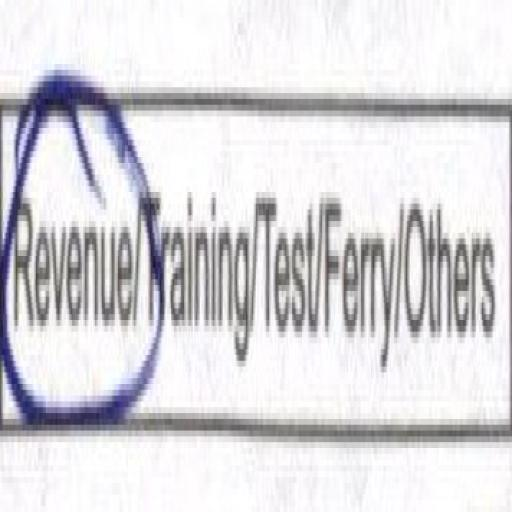check: (4, 30, 146, 490)
